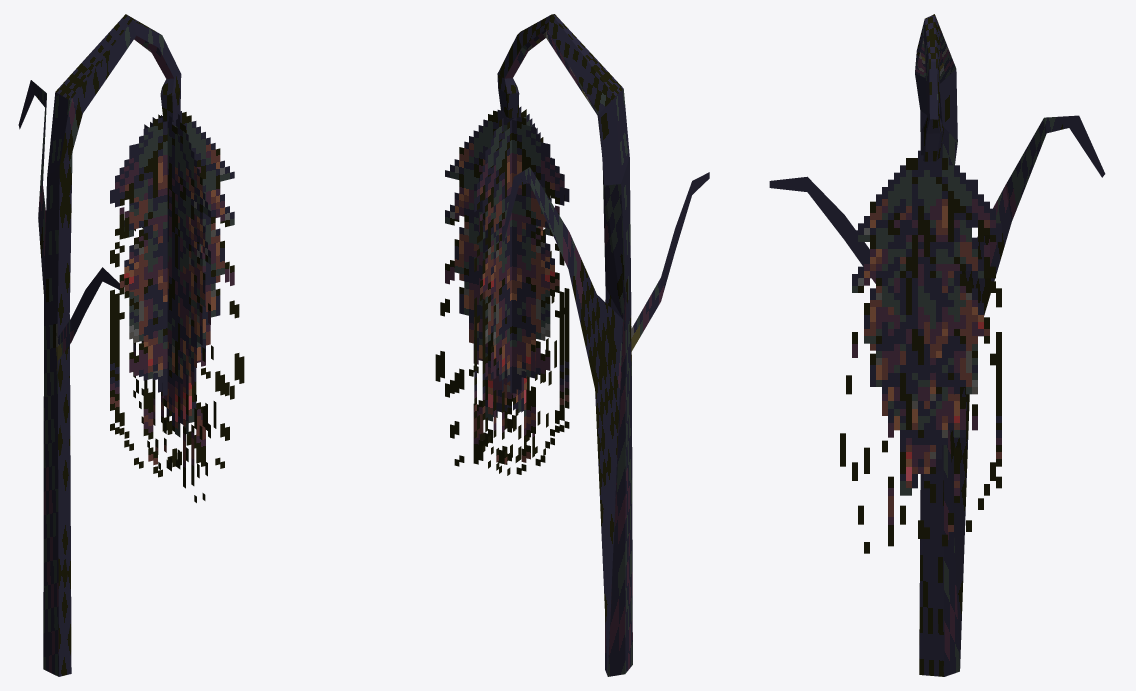
File: korn.obj
3 renders of one model, left to right at view 1: azimuth 30°, elevation 25°; view 2: azimuth 150°, elevation 25°; view 3: azimuth 270°, elevation 25°, orthographic. The views are drawn at different scales.
Visible parts, largest first — view 1: Korn.001; view 2: Korn.001; view 3: Korn.001.
Boxes of the visible parts, x1,y1,x2,y2 form: Korn.001: (18, 14, 244, 676); Korn.001: (435, 14, 709, 676); Korn.001: (769, 14, 1105, 676).
Size of the model in its own units: 1.01 by 2.02 by 1.01.
